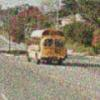buses: (29, 27, 67, 66)
